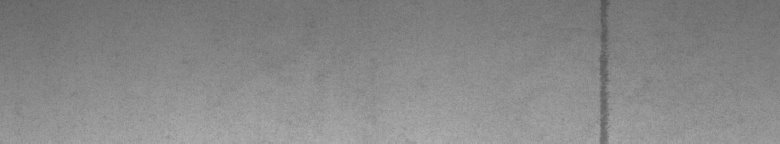hd: (594, 4, 613, 136)
